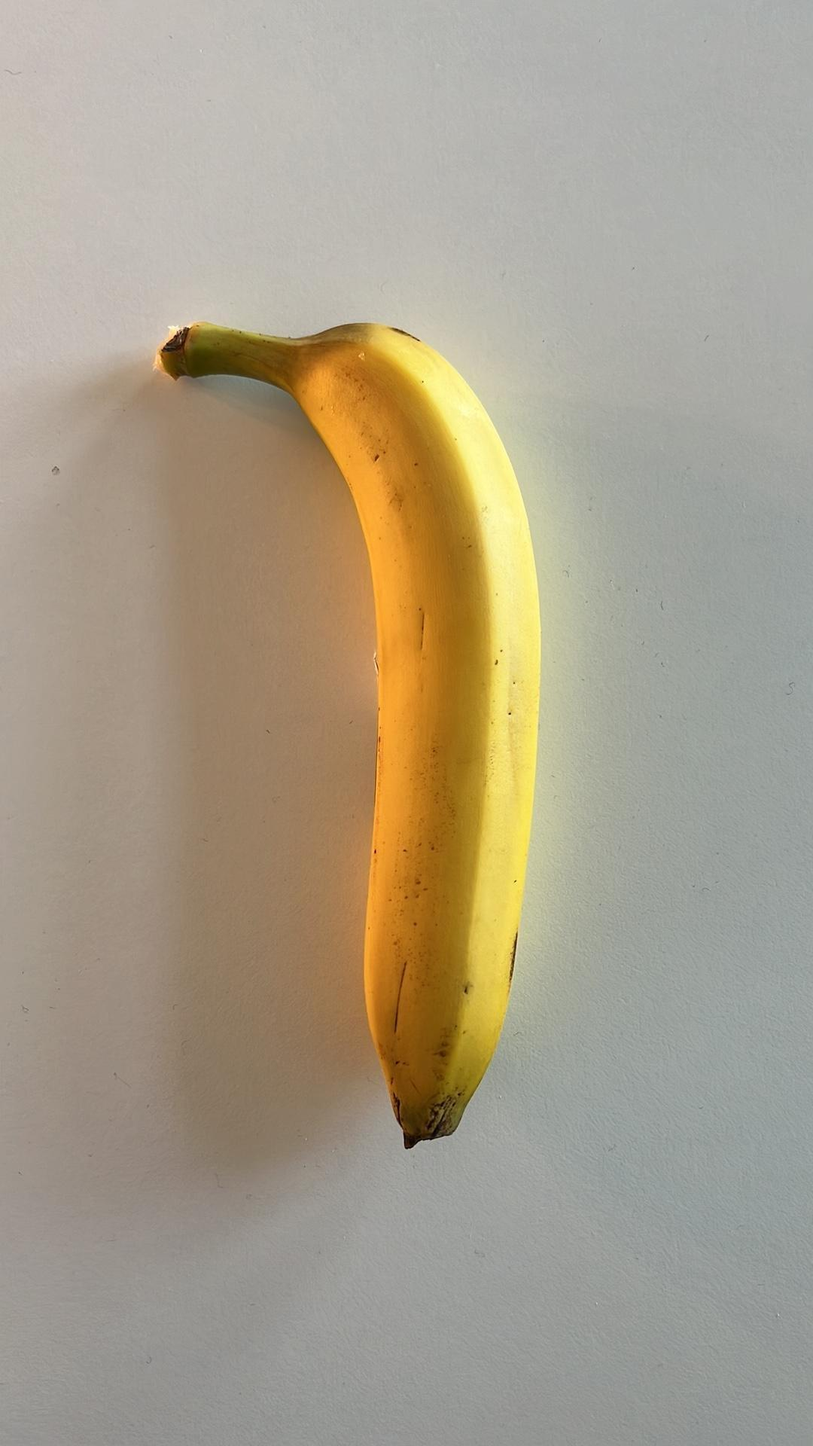banana: (160, 305, 546, 1149)
